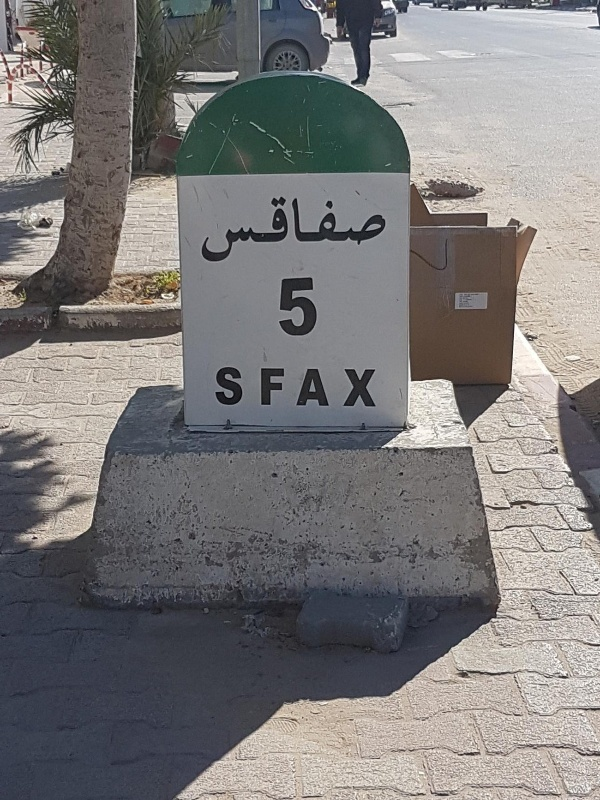text: (225, 196, 240, 265), (241, 196, 256, 265), (257, 196, 272, 265), (273, 196, 288, 265), (289, 196, 304, 265), (305, 196, 320, 265), (321, 196, 336, 265), (337, 196, 352, 265), (353, 196, 368, 265), (369, 196, 384, 265), (210, 196, 224, 265), (289, 276, 304, 339), (305, 276, 318, 339), (225, 367, 240, 408), (241, 367, 256, 408), (257, 367, 272, 408), (273, 367, 288, 408), (289, 367, 304, 408), (305, 367, 320, 408), (321, 367, 336, 408), (337, 367, 352, 408), (353, 367, 368, 408), (281, 276, 288, 339), (215, 367, 224, 408), (369, 367, 376, 408), (385, 196, 387, 265), (465, 297, 475, 309), (460, 297, 464, 309), (465, 293, 480, 296), (459, 293, 464, 296)
